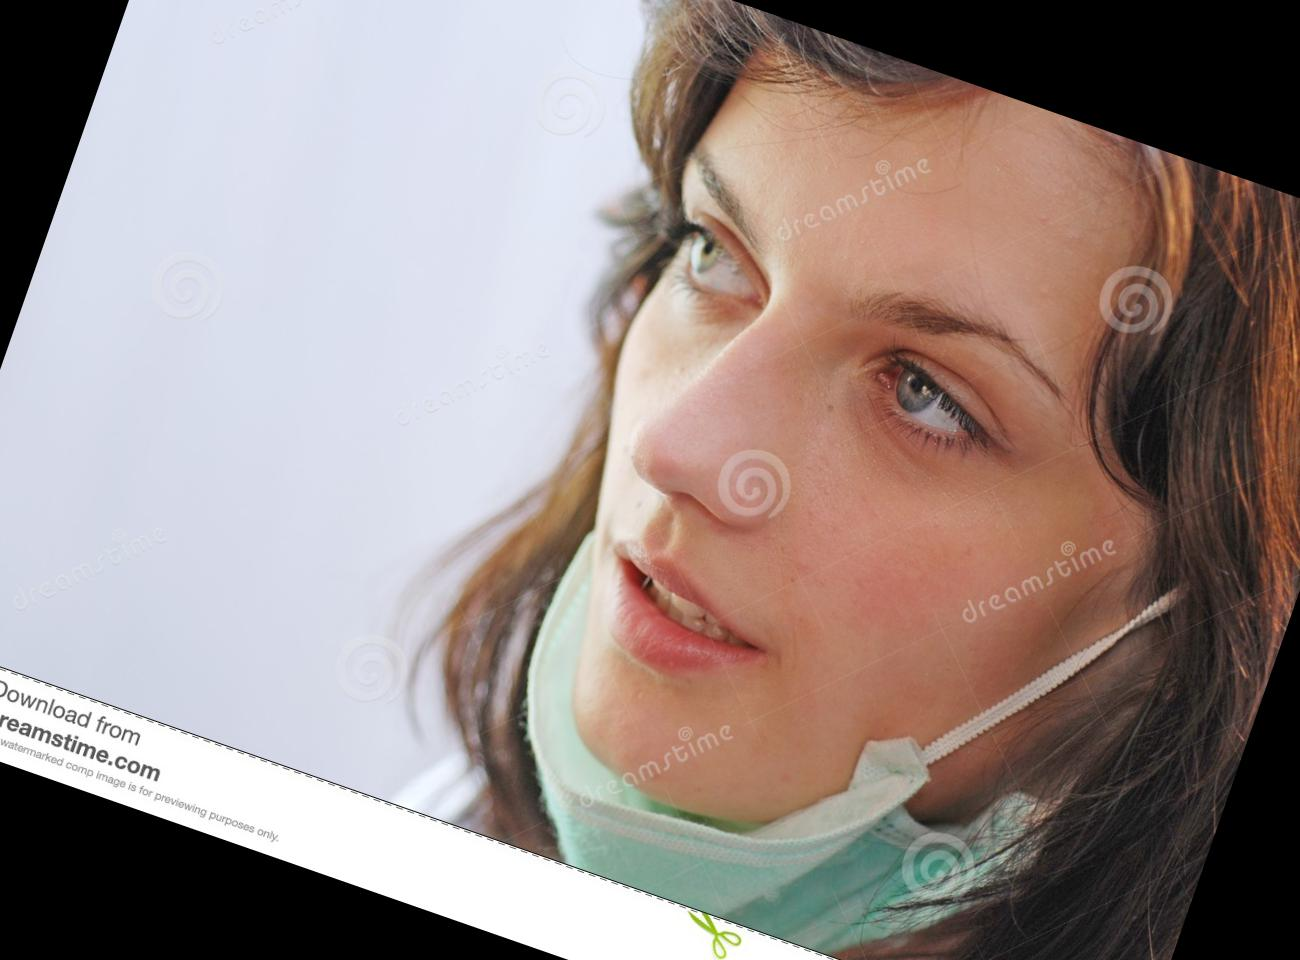mask_weared_incorrect: (472, 178, 1148, 958)
